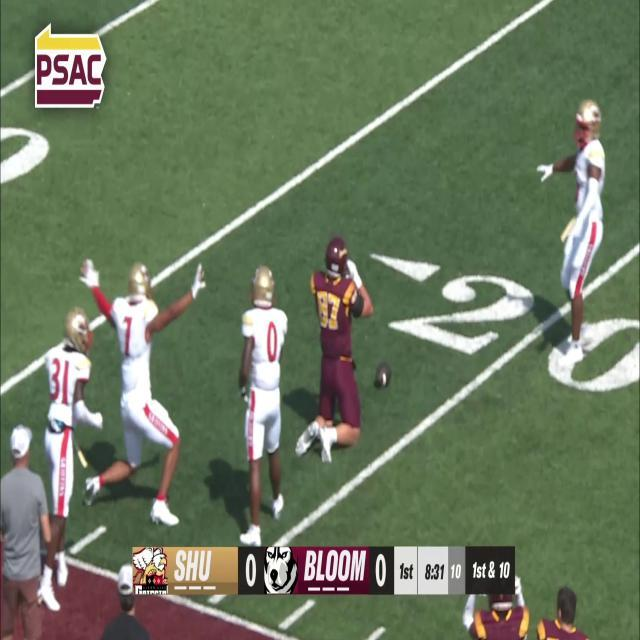football: (373, 360, 391, 390)
